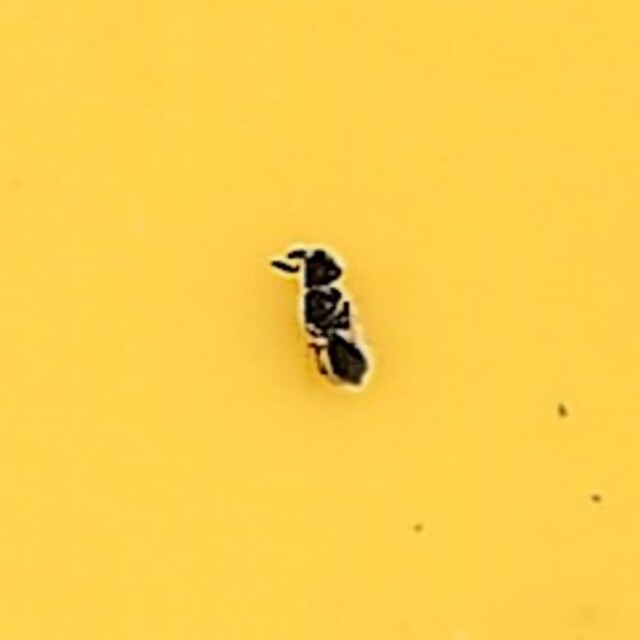Hymenoptera: (264, 242, 376, 398)
